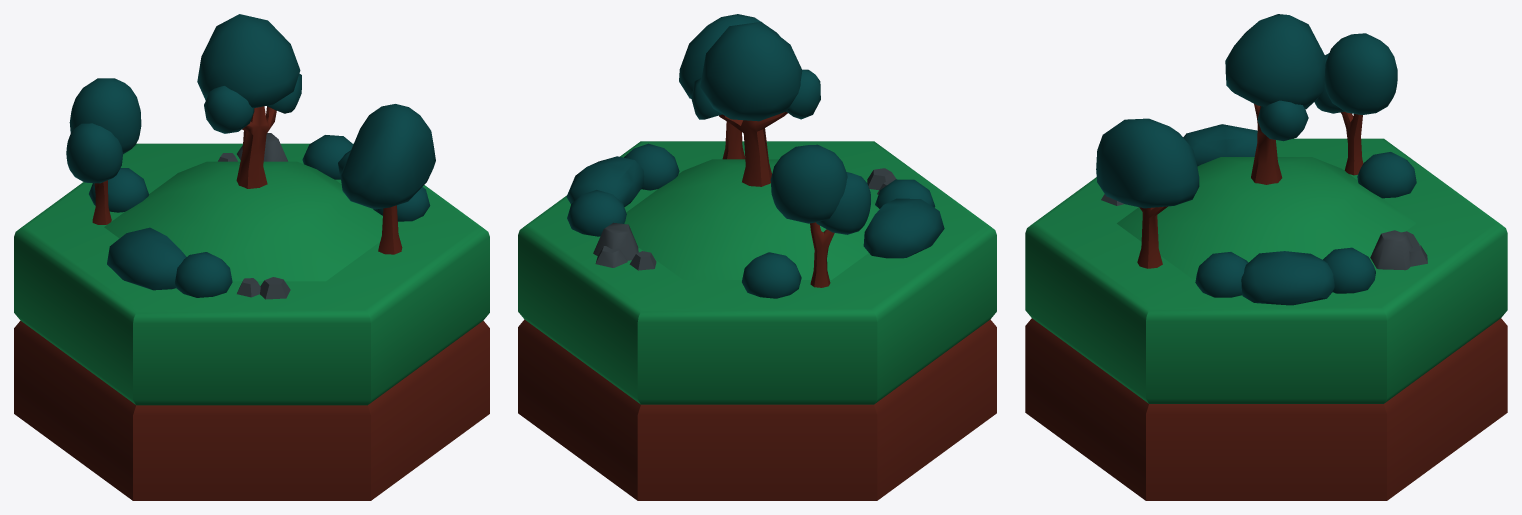
File: kay_forestTileVariation_A.glb
3 views of the same model, side by side, from view 1: azimuth 30°, elevation 25°; view 2: azimuth 150°, elevation 25°; view 3: azimuth 270°, elevation 25° (orthographic).
Visible parts, largest first — view 1: mergedBlocks(Clone); view 2: mergedBlocks(Clone); view 3: mergedBlocks(Clone).
Part boxes in pixels (bbox=[...]): mergedBlocks(Clone): bbox=[14, 14, 489, 500]; mergedBlocks(Clone): bbox=[518, 14, 996, 500]; mergedBlocks(Clone): bbox=[1025, 14, 1507, 500].
Size of the model in its own units: 2 by 2.1 by 2.31.
